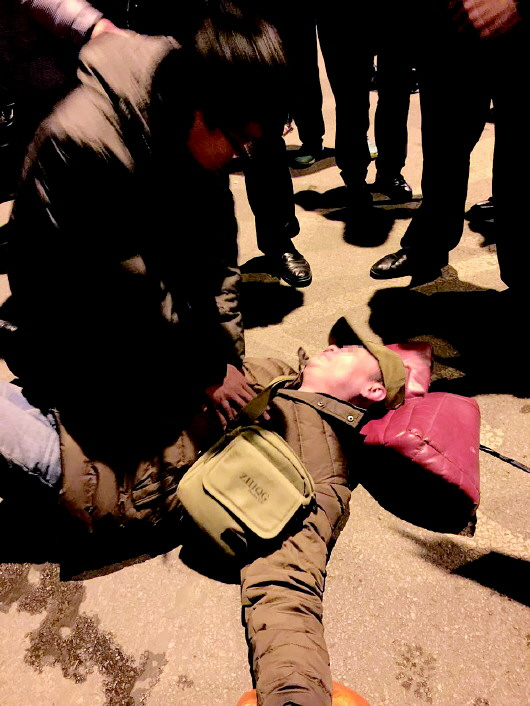fall: (11, 317, 510, 697)
